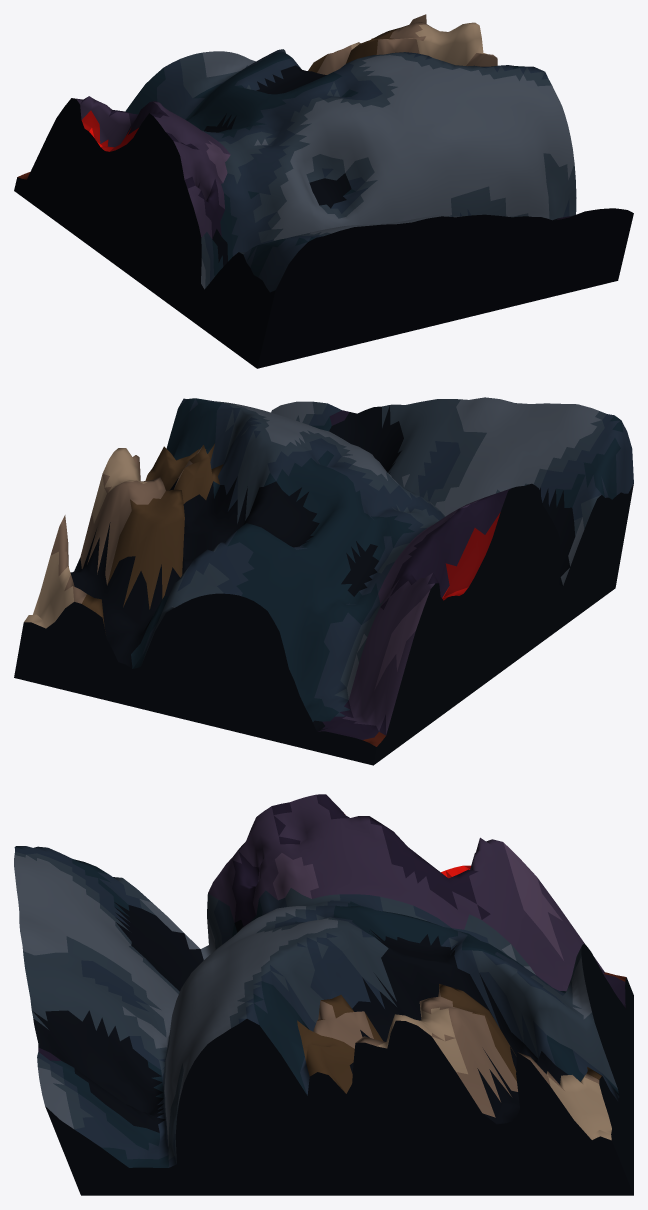
File: gyges_maw_93.glb
3 renders of one model, top to bottom at view 1: azimuth 30°, elevation 25°; view 2: azimuth 150°, elevation 25°; view 3: azimuth 270°, elevation 25°, orthographic. The views are drawn at different scales.
Parts seen in each view (by area): view 1: gyges_maw_93; view 2: gyges_maw_93; view 3: gyges_maw_93.
Boxes of the visible parts, x1,y1,x2,y2 form: gyges_maw_93: (14,14,633,368); gyges_maw_93: (14,397,633,765); gyges_maw_93: (14,794,633,1195).
Size of the model in its own units: 24 by 11.24 by 31.4.
